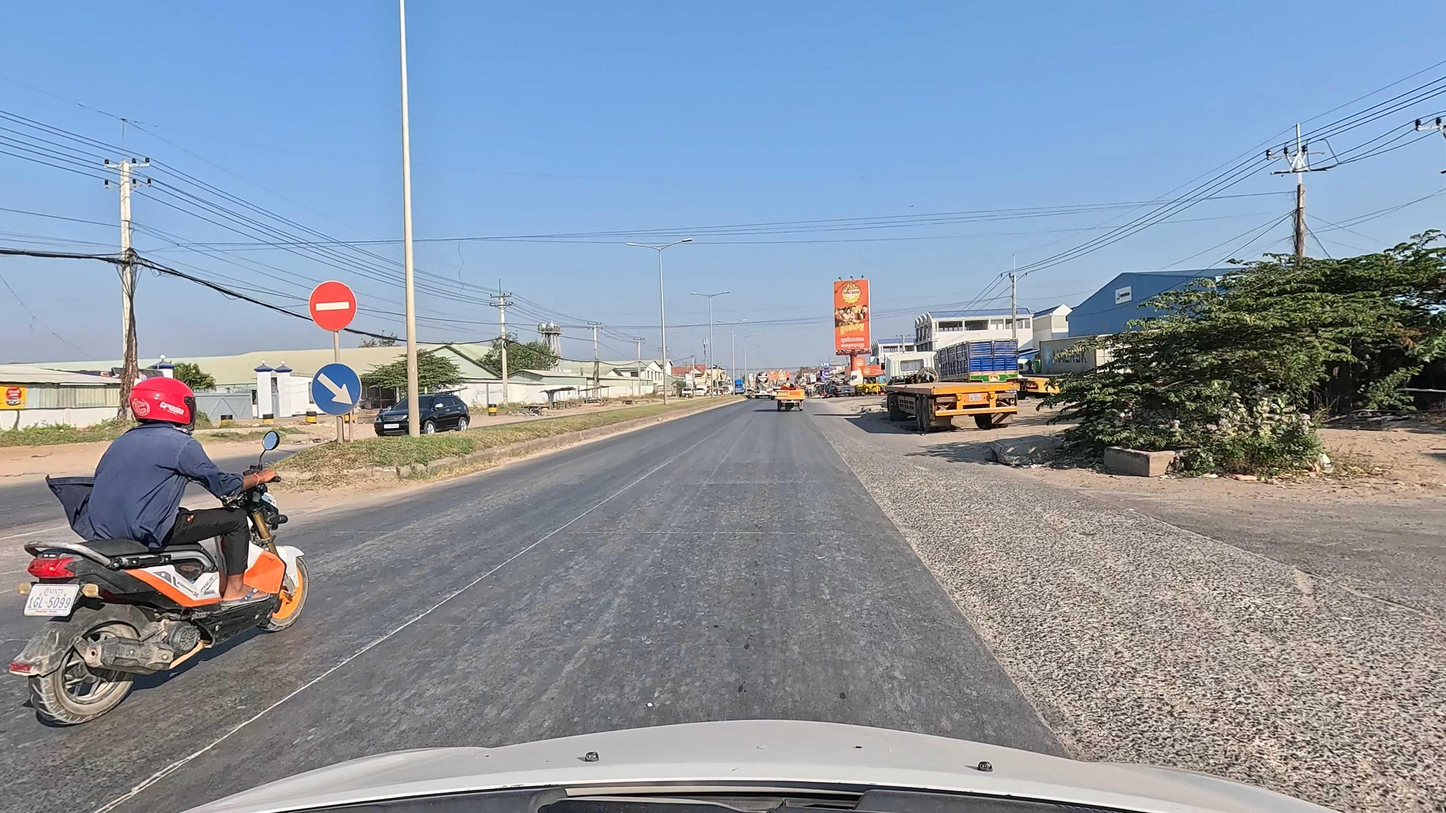keep_right: (309, 363, 362, 416)
no_entry: (308, 280, 358, 332)
